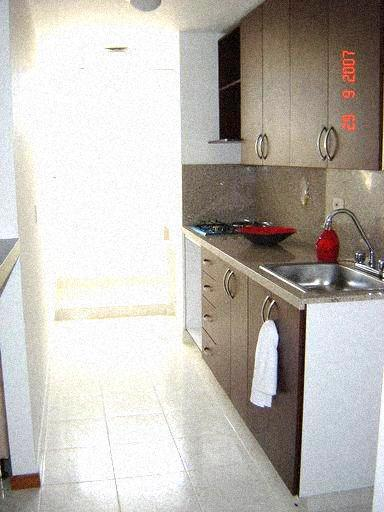Lavaplatos: (264, 209, 383, 298)
